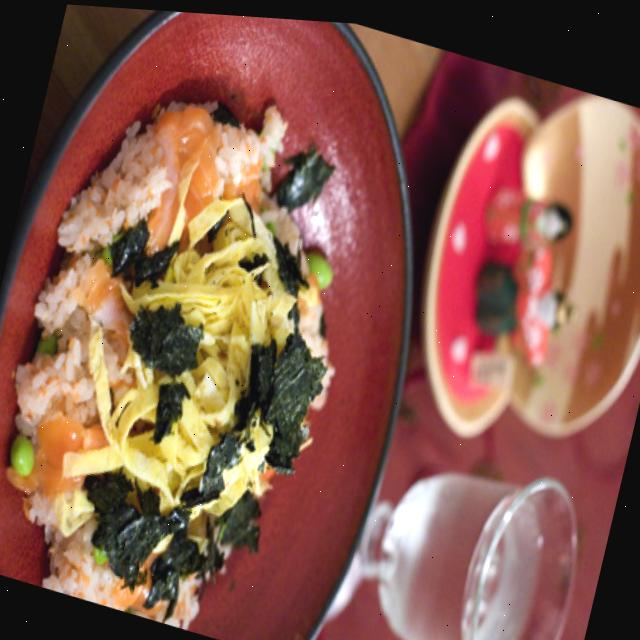寿司卷物: (0, 0, 491, 640)
